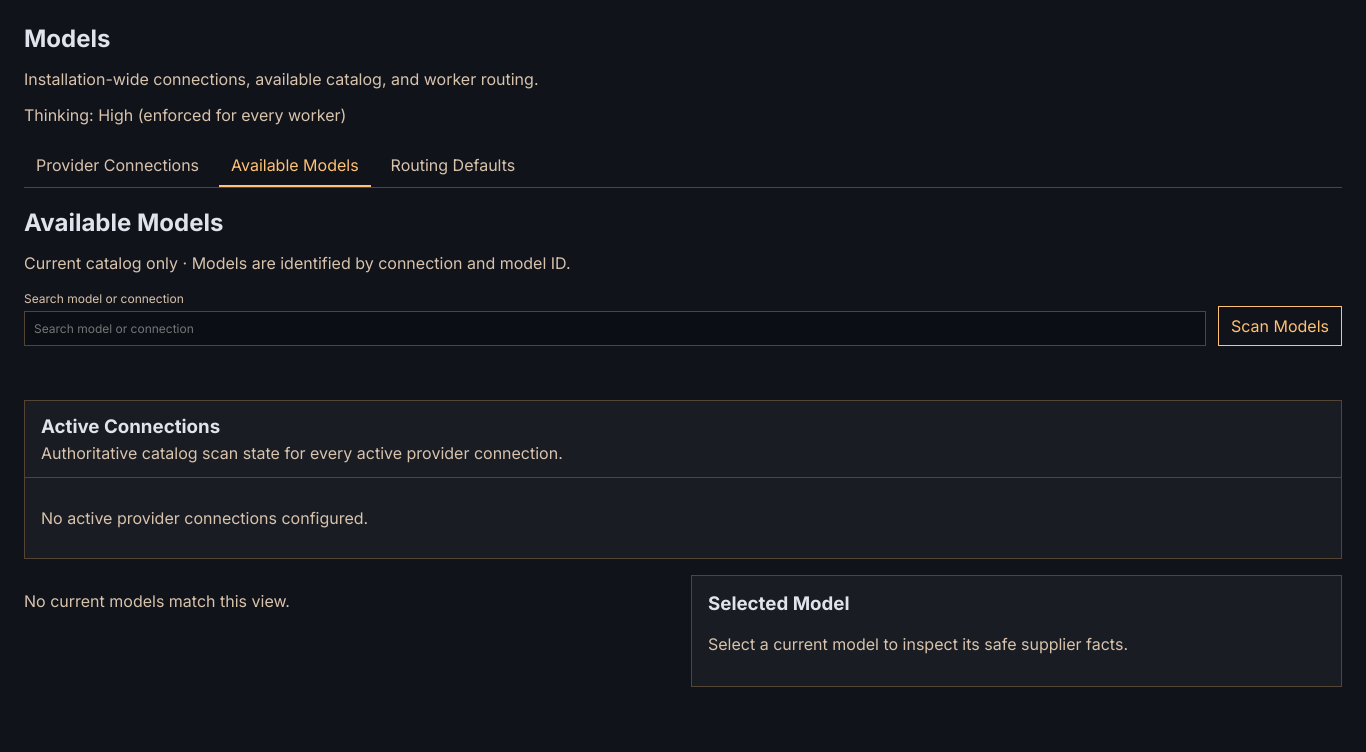
ModelsDestination › announces completion only for settled success and recovery only for settled failure
What coordinates should you click on to do the following:
click the button "Scan Models"
I would click on:
 (1280, 326)
Its box is [1218,306,1342,346].
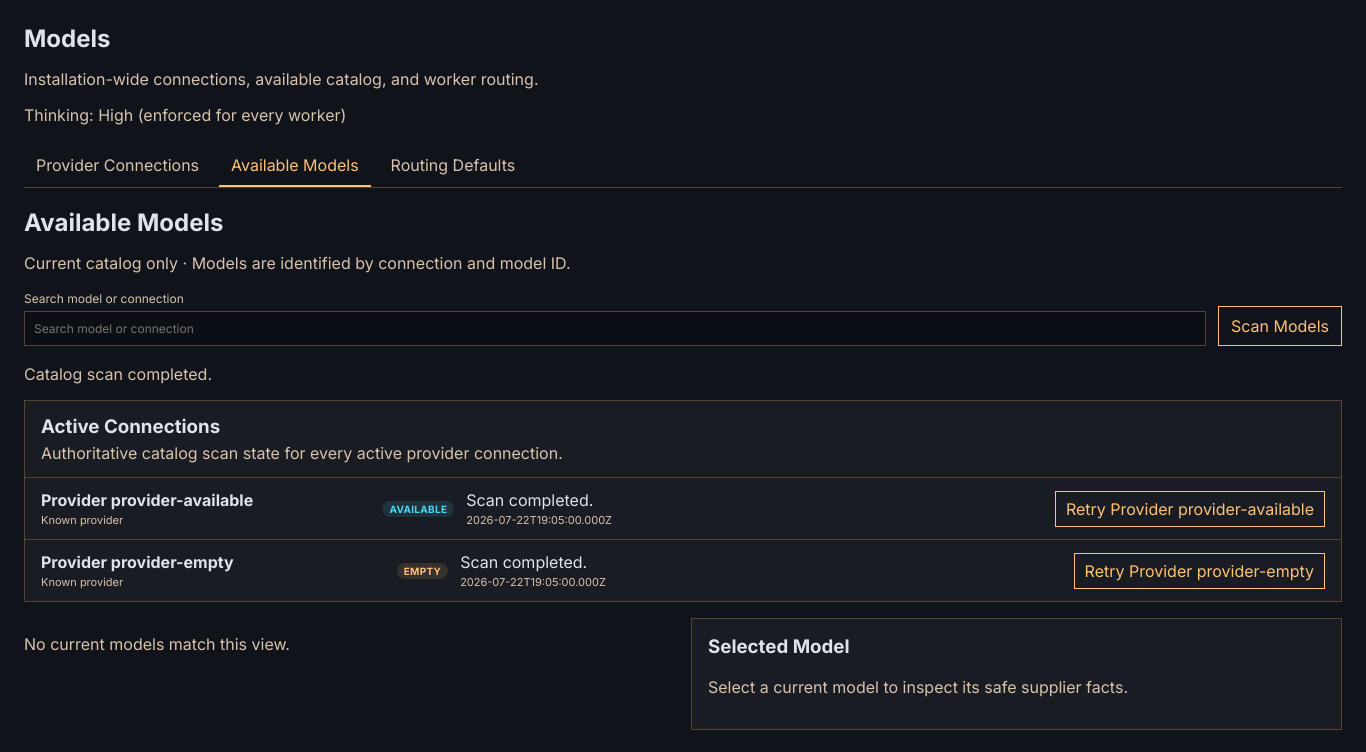
Expected: the text "Catalog scan completed." is shown, [24,364,212,384]
What coordinates should you click on to do the following:
click the button "Scan Models"
I would click on:
 (1280, 326)
Its box is [1218,306,1342,346].
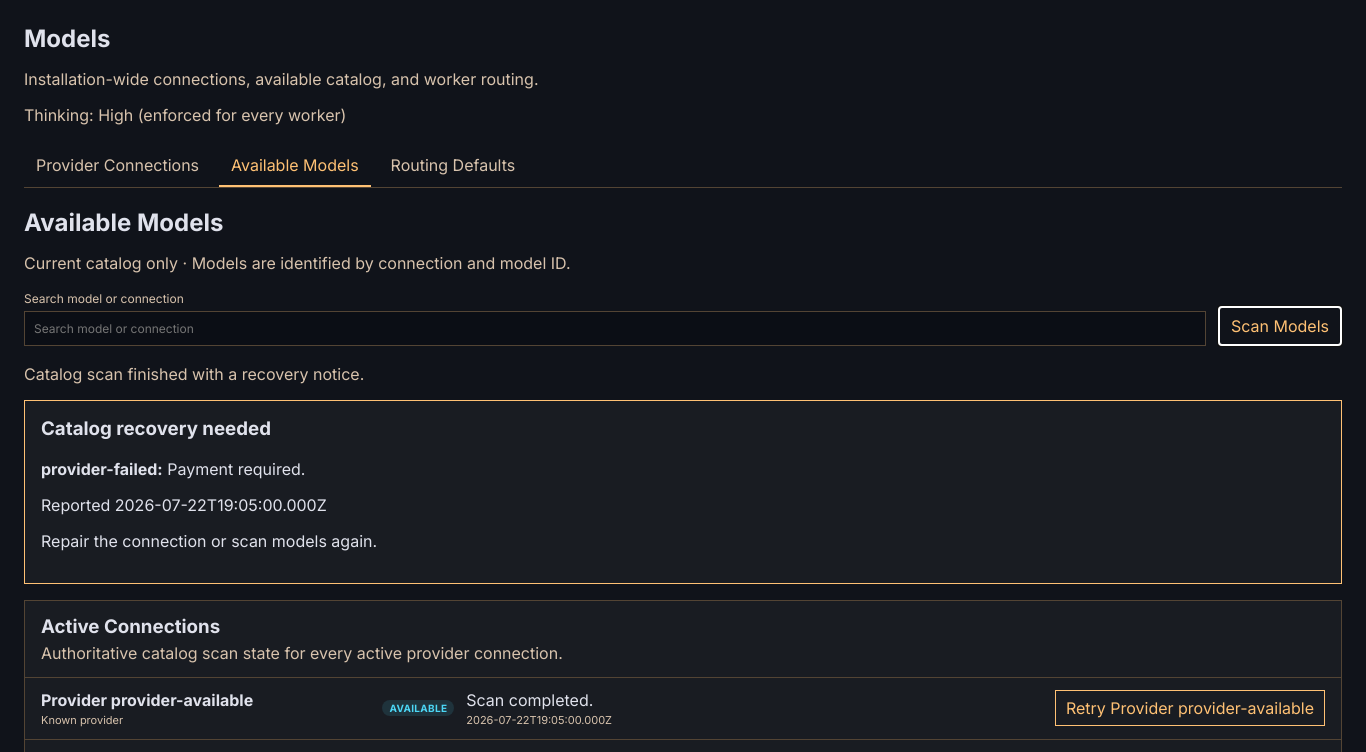
Expected: the text "Catalog scan finished with a recovery notice." is shown, [24,364,364,384]
